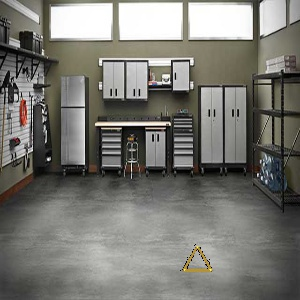triangle: (178, 244, 215, 275)
